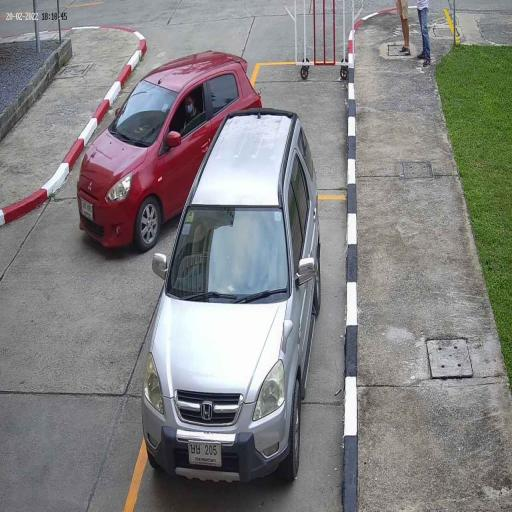car: (141, 114, 322, 488), (74, 51, 262, 260)
